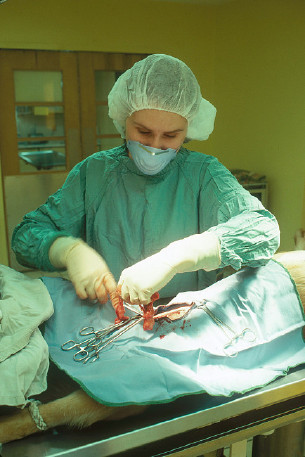face_mask: (125, 96, 186, 174)
